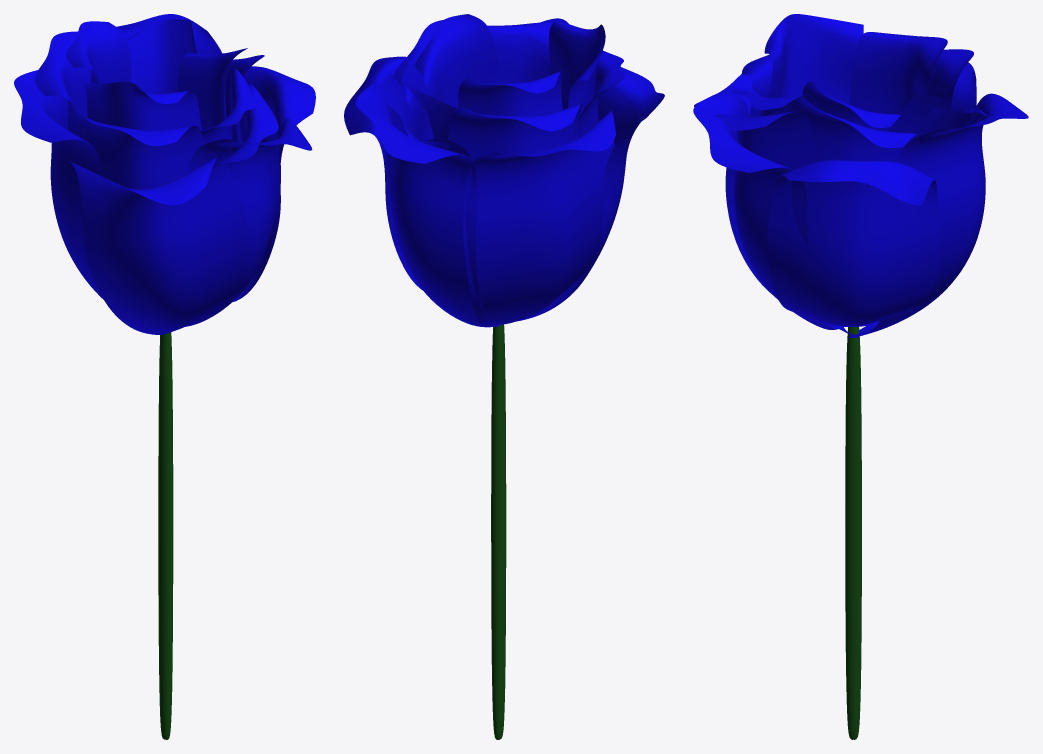
The model's file is blue-rose.gltf.
3 renders of one model, left to right at view 1: azimuth 30°, elevation 25°; view 2: azimuth 150°, elevation 25°; view 3: azimuth 270°, elevation 25°, orthographic. The views are drawn at different scales.
Parts seen in each view (by area): view 1: pasted__pasted__pasted__pSphere4.002, pasted__pasted__pasted__pSphere3.002, pasted__pasted__pasted__pSphere3.001, pasted__pasted__pasted__normal_stem, pasted__pasted__pasted__pSphere5.002, pasted__pasted__pasted__pSphere3, pasted__pasted__pasted__pSphere1, pasted__pasted__pasted__pSphere1.002, pasted__pasted__pasted__pSphere2, pasted__pasted__pasted__pSphere2.001, pasted__pasted__pasted__pSphere5, pasted__pasted__pasted__pSphere4.001 (+3 smaller); view 2: pasted__pasted__pasted__pSphere3.002, pasted__pasted__pasted__pSphere2.002, pasted__pasted__pasted__normal_stem, pasted__pasted__pasted__pSphere5, pasted__pasted__pasted__pSphere2.001, pasted__pasted__pasted__pSphere4.002, pasted__pasted__pasted__pSphere3, pasted__pasted__pasted__pSphere2, pasted__pasted__pasted__pSphere4, pasted__pasted__pasted__pSphere1.002, pasted__pasted__pasted__pSphere1, pasted__pasted__pasted__pSphere1.001 (+2 smaller); view 3: pasted__pasted__pasted__pSphere1.002, pasted__pasted__pasted__pSphere2.002, pasted__pasted__pasted__pSphere5.002, pasted__pasted__pasted__pSphere3, pasted__pasted__pasted__normal_stem, pasted__pasted__pasted__pSphere2, pasted__pasted__pasted__pSphere5.001, pasted__pasted__pasted__pSphere4.001, pasted__pasted__pasted__pSphere5, pasted__pasted__pasted__pSphere2.001, pasted__pasted__pasted__pSphere1.001, pasted__pasted__pasted__pSphere1 (+4 smaller).
Part boxes in pixels (box(x1,y1,x2,y2)): pasted__pasted__pasted__pSphere4.002: box(70, 154, 248, 334); pasted__pasted__pasted__pSphere3.002: box(14, 70, 103, 299); pasted__pasted__pasted__pSphere3.001: box(79, 112, 204, 189); pasted__pasted__pasted__normal_stem: box(158, 332, 173, 739); pasted__pasted__pasted__pSphere5.002: box(186, 118, 312, 326); pasted__pasted__pasted__pSphere3: box(69, 80, 201, 130); pasted__pasted__pasted__pSphere1: box(127, 20, 193, 94); pasted__pasted__pasted__pSphere1.002: box(233, 66, 315, 301); pasted__pasted__pasted__pSphere2: box(66, 21, 131, 83); pasted__pasted__pasted__pSphere2.001: box(34, 31, 91, 139); pasted__pasted__pasted__pSphere5: box(177, 48, 247, 129); pasted__pasted__pasted__pSphere4.001: box(213, 83, 278, 172); pasted__pasted__pasted__pSphere3.002: box(463, 109, 615, 326); pasted__pasted__pasted__pSphere2.002: box(356, 84, 499, 327); pasted__pasted__pasted__normal_stem: box(491, 324, 506, 739); pasted__pasted__pasted__pSphere5: box(414, 14, 501, 108); pasted__pasted__pasted__pSphere2.001: box(448, 103, 582, 161); pasted__pasted__pasted__pSphere4.002: box(517, 67, 664, 321); pasted__pasted__pasted__pSphere3: box(549, 21, 605, 114); pasted__pasted__pasted__pSphere2: box(458, 70, 562, 116); pasted__pasted__pasted__pSphere4: box(487, 22, 552, 83); pasted__pasted__pasted__pSphere1.002: box(344, 56, 422, 290); pasted__pasted__pasted__pSphere1: box(402, 60, 456, 139); pasted__pasted__pasted__pSphere1.001: box(380, 73, 470, 158); pasted__pasted__pasted__pSphere1.002: box(767, 160, 941, 326); pasted__pasted__pasted__pSphere2.002: box(849, 93, 1028, 337); pasted__pasted__pasted__pSphere5.002: box(693, 92, 839, 329); pasted__pasted__pasted__pSphere3: box(764, 14, 863, 104); pasted__pasted__pasted__normal_stem: box(845, 327, 861, 739); pasted__pasted__pasted__pSphere2: box(849, 32, 947, 114); pasted__pasted__pasted__pSphere5.001: box(790, 96, 916, 162); pasted__pasted__pasted__pSphere4.001: box(714, 111, 817, 169); pasted__pasted__pasted__pSphere5: box(802, 82, 900, 131); pasted__pasted__pasted__pSphere2.001: box(928, 49, 973, 109); pasted__pasted__pasted__pSphere1.001: box(901, 105, 987, 151); pasted__pasted__pasted__pSphere1: box(889, 88, 947, 132).
Bounding box in the file's own units: 0.0393 × 0.1021 × 0.045.
